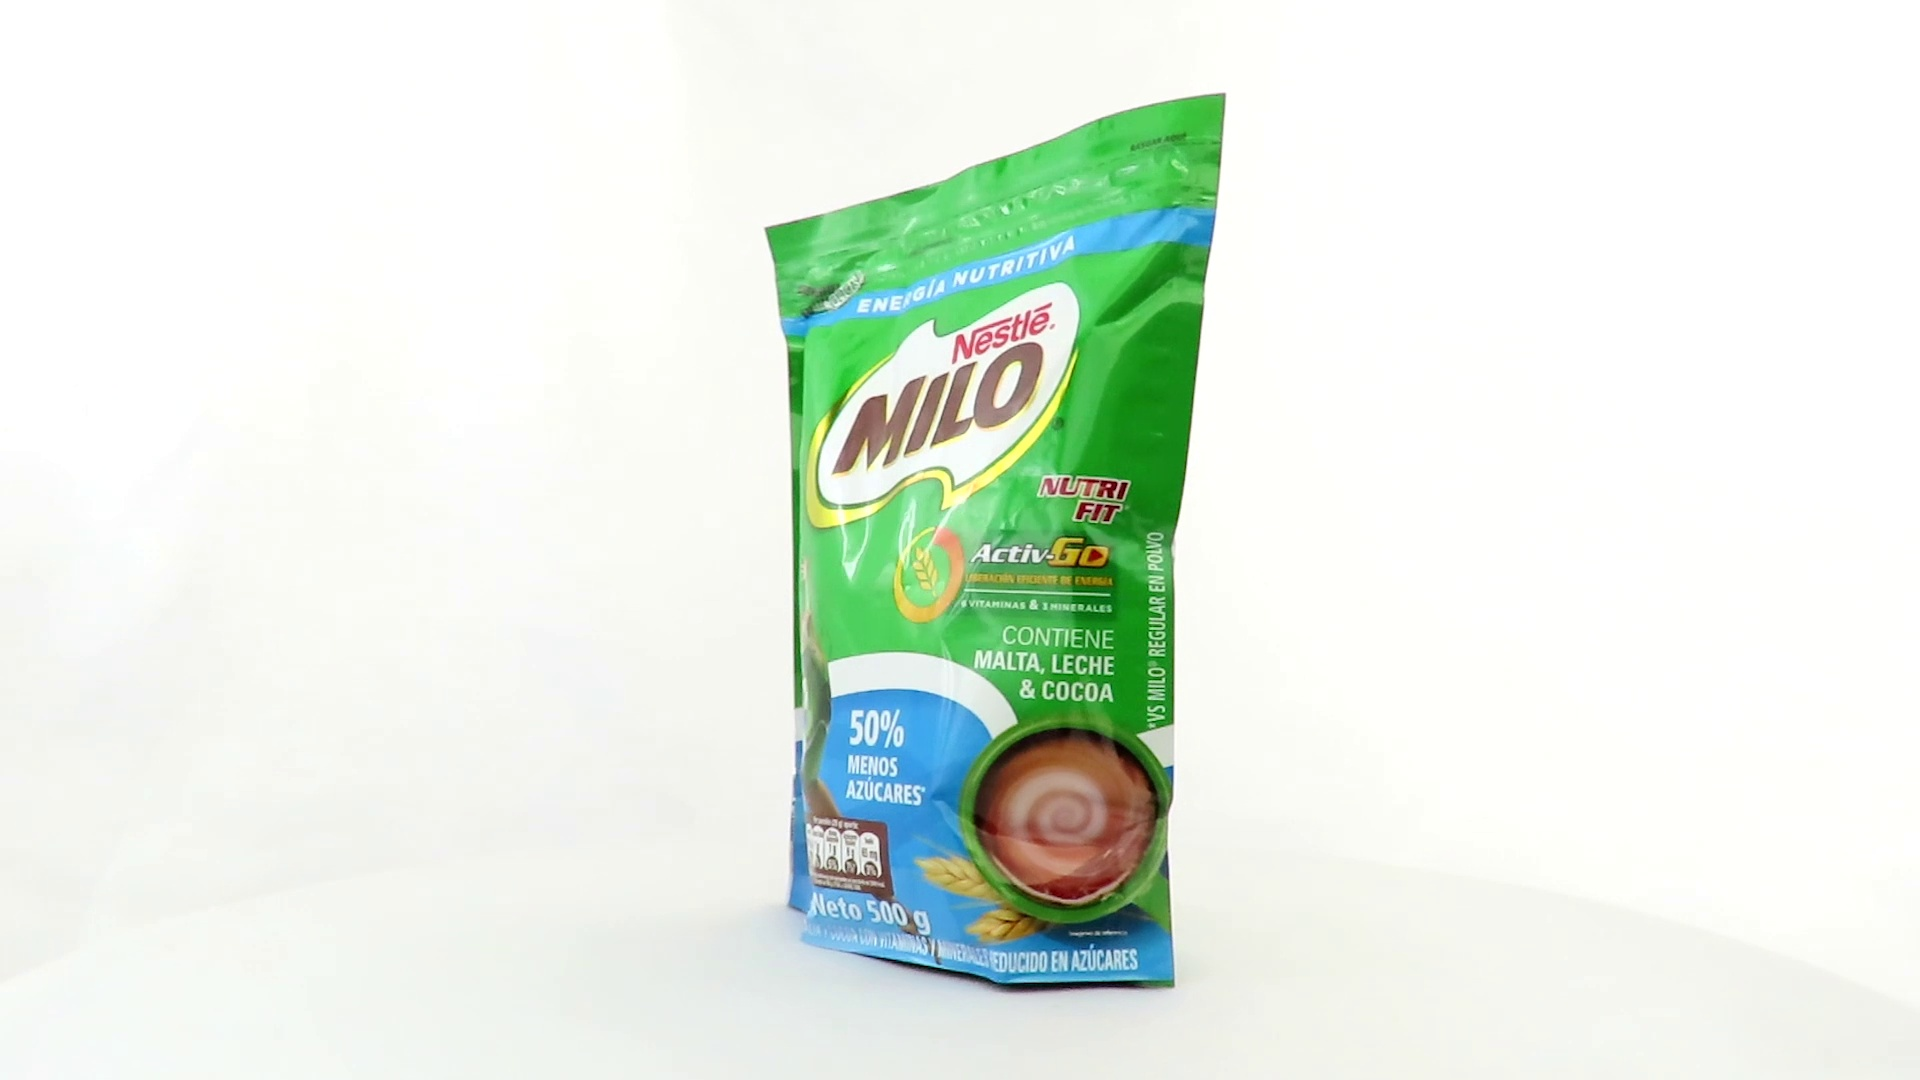COL0170205DYP50000: (760, 87, 1232, 1000)
